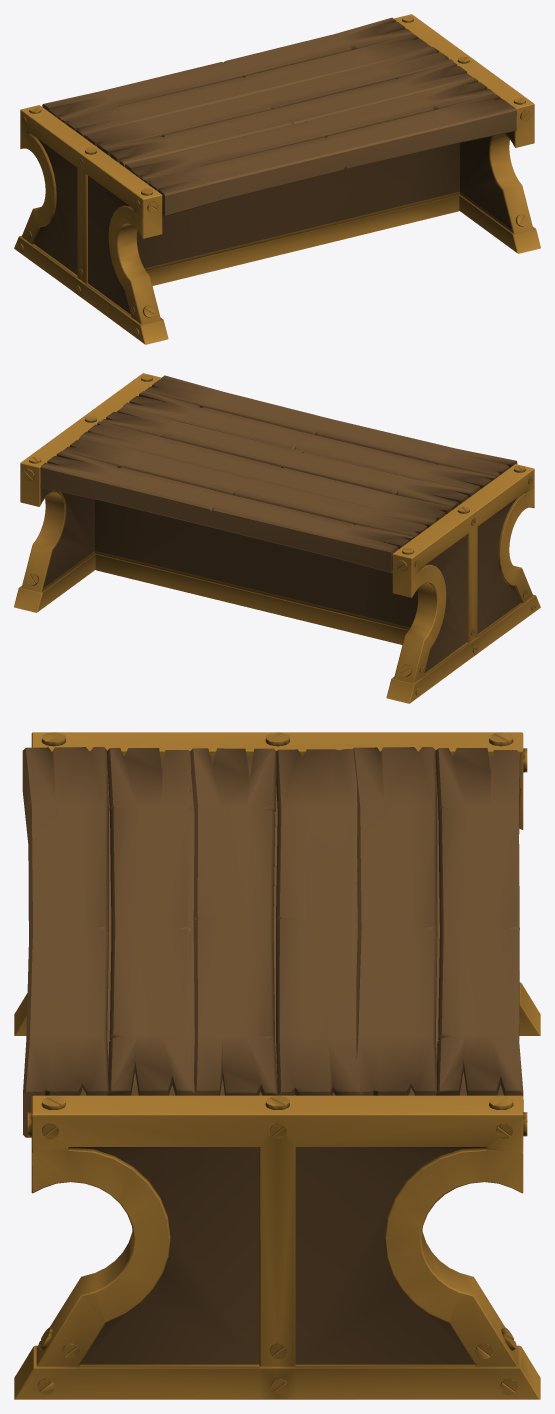
File: obj_tableBigWood.FBX
3 renders of one model, top to bottom at view 1: azimuth 30°, elevation 25°; view 2: azimuth 150°, elevation 25°; view 3: azimuth 270°, elevation 25°, orthographic. The views are drawn at different scales.
Parts seen in each view (by area): view 1: obj_tableBigWood; view 2: obj_tableBigWood; view 3: obj_tableBigWood.
Boxes of the visible parts, bbox=[...] form: obj_tableBigWood: bbox=[14, 14, 540, 344]; obj_tableBigWood: bbox=[14, 373, 540, 703]; obj_tableBigWood: bbox=[14, 732, 540, 1399].
Bounding box in the file's own units: 5.71 × 1.97 × 3.27.
